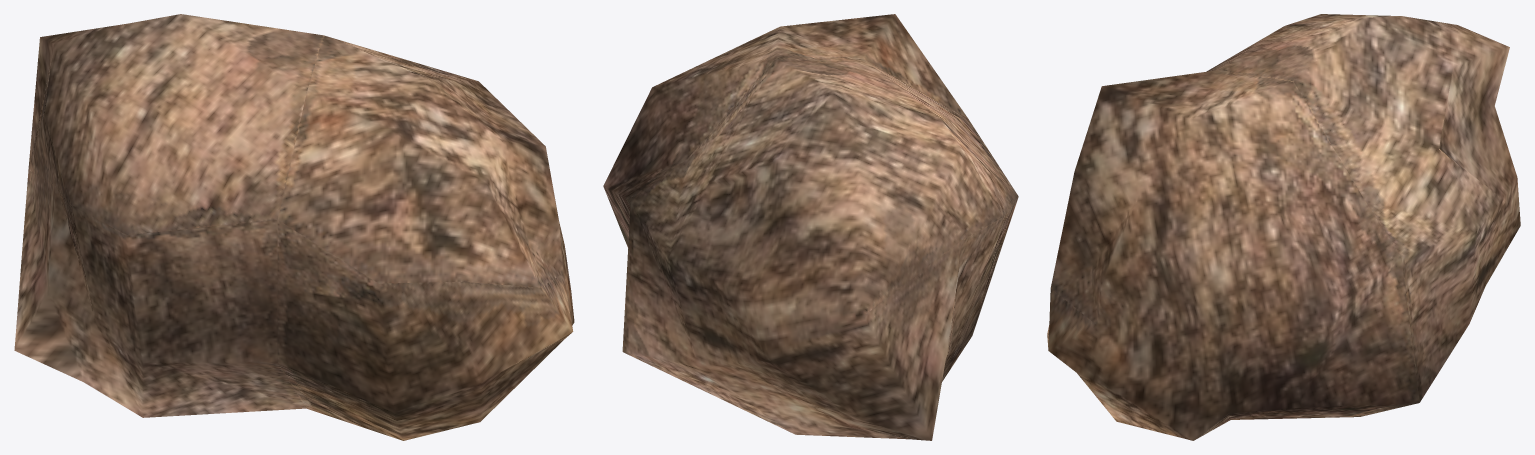
File: stone_3.fbx
The picture shows the model from 3 angles, left to right: view 1: azimuth 30°, elevation 25°; view 2: azimuth 150°, elevation 25°; view 3: azimuth 270°, elevation 25°; orthographic projection. The views are drawn at different scales.
Visible parts, largest first — view 1: polySurface2, polySurface1; view 2: polySurface2, polySurface1; view 3: polySurface1, polySurface2.
Part boxes in pixels (x1,y1,x2,y2): polySurface2: [14, 14, 323, 417]; polySurface1: [277, 35, 574, 440]; polySurface2: [622, 59, 1018, 440]; polySurface1: [603, 14, 967, 247]; polySurface1: [1047, 70, 1419, 440]; polySurface2: [1207, 14, 1520, 402].
Bounding box in the file's own units: 560 × 473 × 580.
